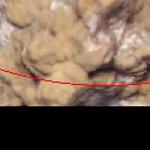alive: (4, 4, 148, 102)
